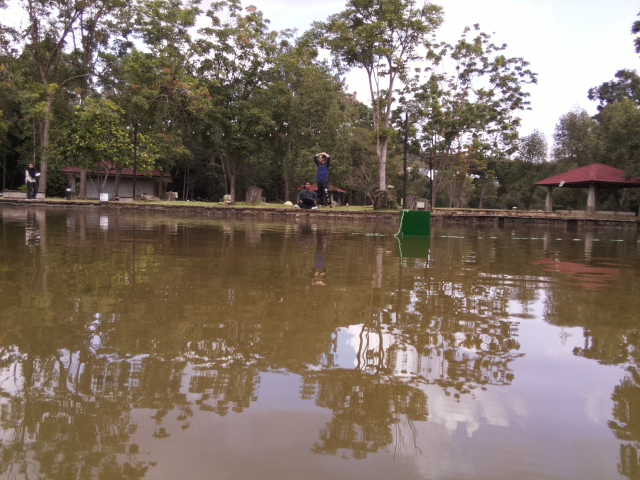obstacle: (398, 210, 432, 237)
